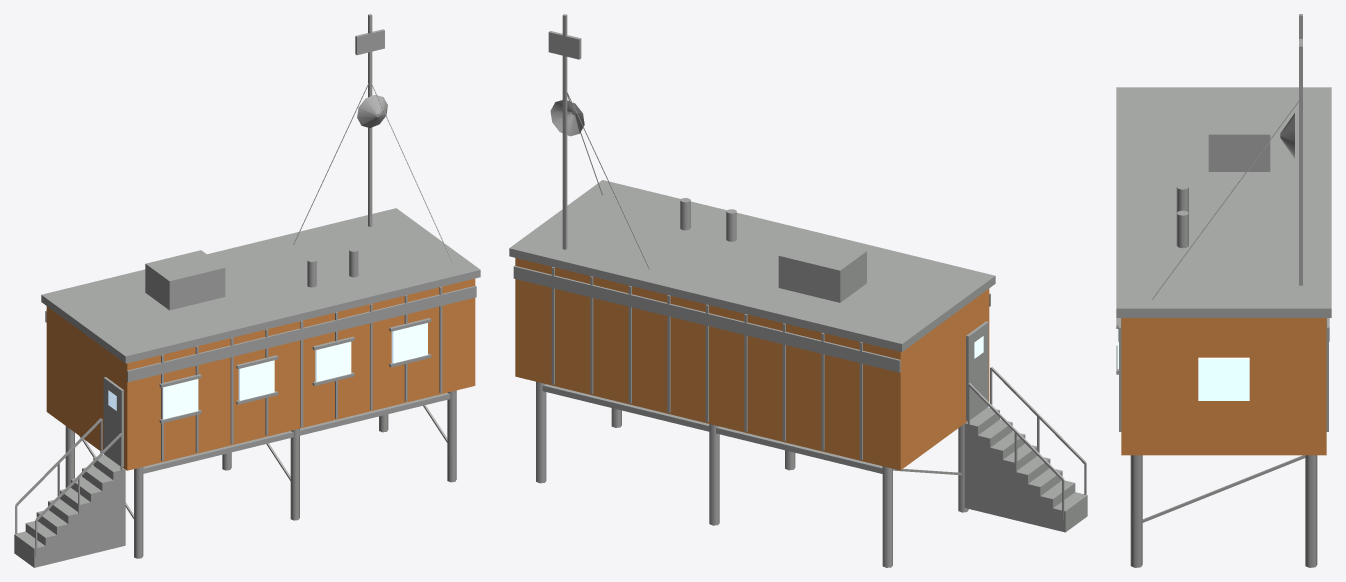
Rendered from research-station.glb.
3 views of the same model, side by side, from view 1: azimuth 30°, elevation 25°; view 2: azimuth 150°, elevation 25°; view 3: azimuth 270°, elevation 25° (orthographic). The views are drawn at different scales.
Parts seen in each view (by area): view 1: research-station; view 2: research-station; view 3: research-station.
Boxes of the visible parts, <box> form: research-station: <box>14,14,480,567</box>; research-station: <box>509,14,1087,567</box>; research-station: <box>1116,14,1331,567</box>.
Size of the model in its own units: 12.71 by 11.6 by 4.2.
